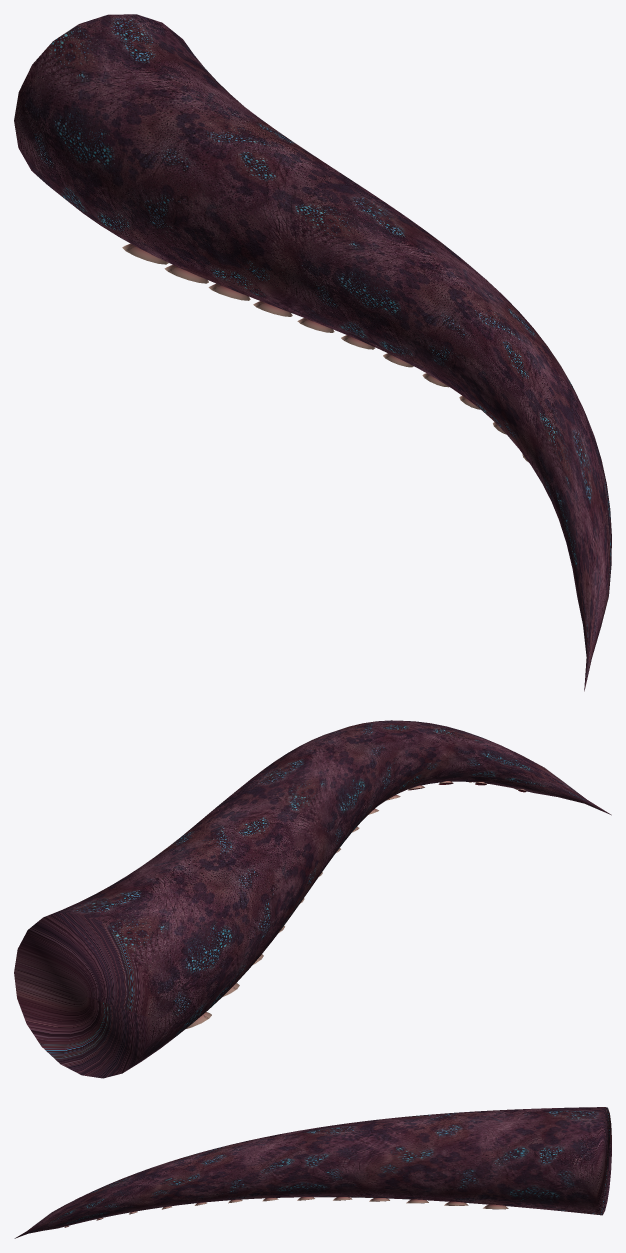
File: kraken_tentacle_variant_03.obj
3 views of the same model, one above another, from view 1: azimuth 30°, elevation 25°; view 2: azimuth 150°, elevation 25°; view 3: azimuth 270°, elevation 25° (orthographic). The views are drawn at different scales.
Visible parts, largest first — view 1: Tentacle_Variant_03; view 2: Tentacle_Variant_03; view 3: Tentacle_Variant_03.
Boxes of the visible parts, x1,y1,x2,y2 form: Tentacle_Variant_03: (14, 14, 611, 691); Tentacle_Variant_03: (14, 720, 611, 1078); Tentacle_Variant_03: (14, 1107, 611, 1238).
Size of the model in its own units: 1.91 by 2.74 by 10.29.
3 materials, 3 textured.
